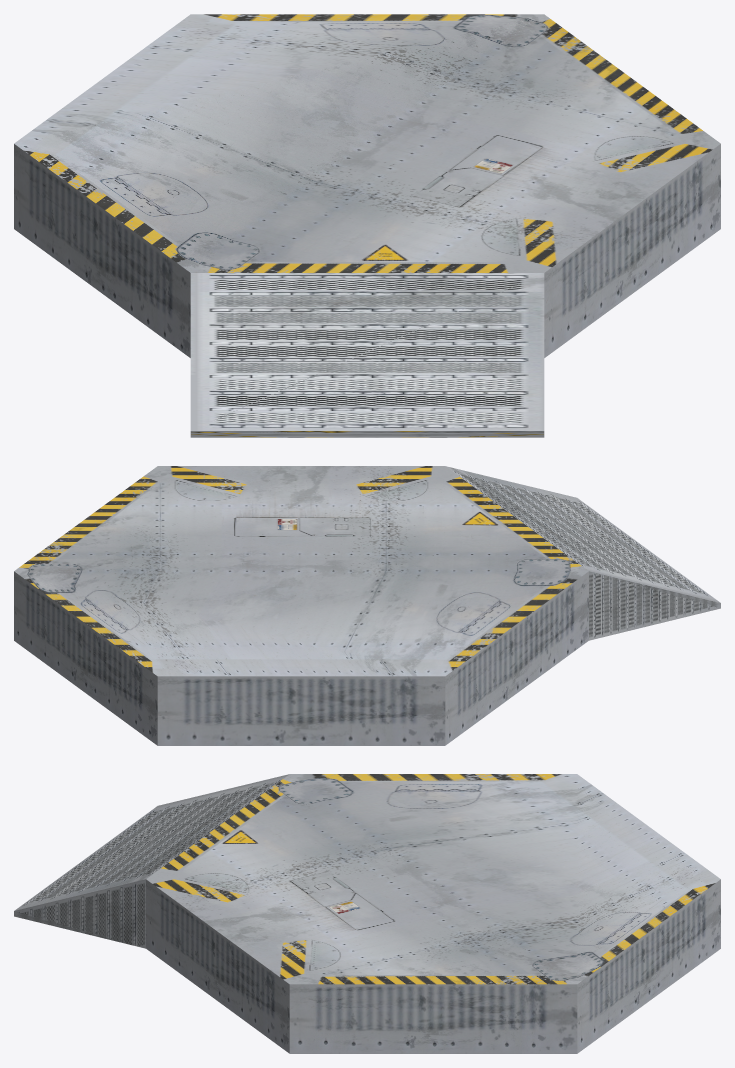
Rendered from SpaceshipPlatform.obj.
3 renders of one model, top to bottom at view 1: azimuth 30°, elevation 25°; view 2: azimuth 150°, elevation 25°; view 3: azimuth 270°, elevation 25°, orthographic. The views are drawn at different scales.
Parts seen in each view (by area): view 1: Cylinder.001; view 2: Cylinder.001; view 3: Cylinder.001.
Boxes of the visible parts, left/top/right/bottom form: Cylinder.001: left=14, top=14, right=720, bottom=437; Cylinder.001: left=14, top=466, right=720, bottom=745; Cylinder.001: left=14, top=774, right=720, bottom=1053.
Bounding box in the file's own units: 2 × 0.2666 × 2.46.
1 material, 1 textured.
